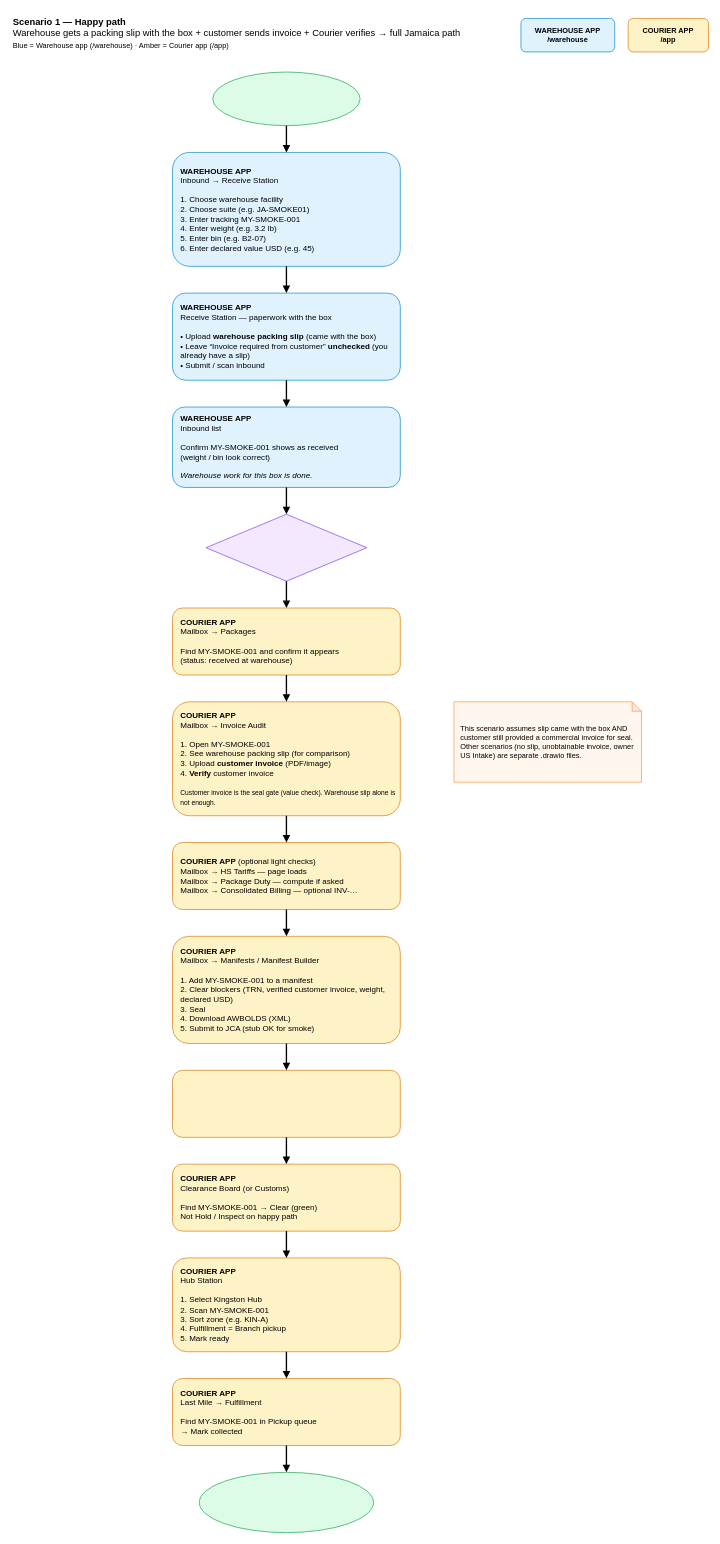
Image size: 720x1544. Some labels were removed from this diagram. Here are the shapes that lost their labels. From the top down, the box of each, then its label:
(212, 71, 360, 126): START Package arrives at US warehouse Tracking: MY-SMOKE-001
(205, 514, 367, 581): HANDOFF → switch to Courier login (same org, same package)
(172, 1070, 400, 1137): COURIER APP Same manifest 1. Mark Shipped 2. Mark Arrived Jamaica
(199, 1472, 374, 1533): DONE Received → Customer invoice verified → Sealed → Cleared → Collected
